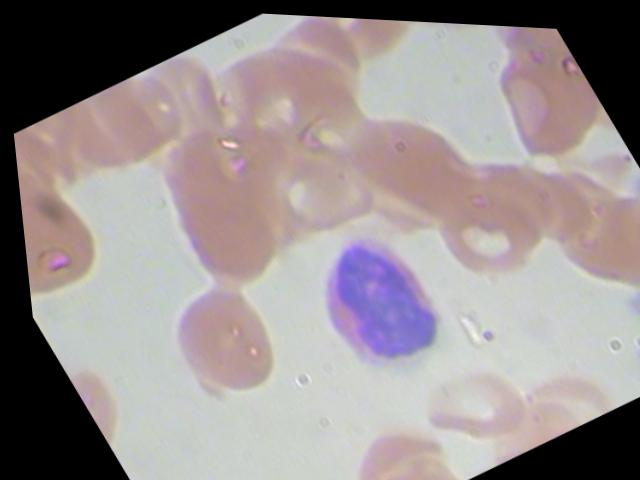Platelets: (614, 277, 639, 317), (624, 325, 639, 376)
Red Blood Cells: (129, 252, 305, 418), (463, 24, 620, 177), (139, 162, 294, 306), (243, 111, 398, 255), (408, 163, 562, 306), (390, 330, 537, 462), (14, 169, 123, 312), (44, 74, 174, 190), (562, 170, 639, 300), (368, 15, 515, 58)
White Blood Cells: (275, 207, 469, 401)
